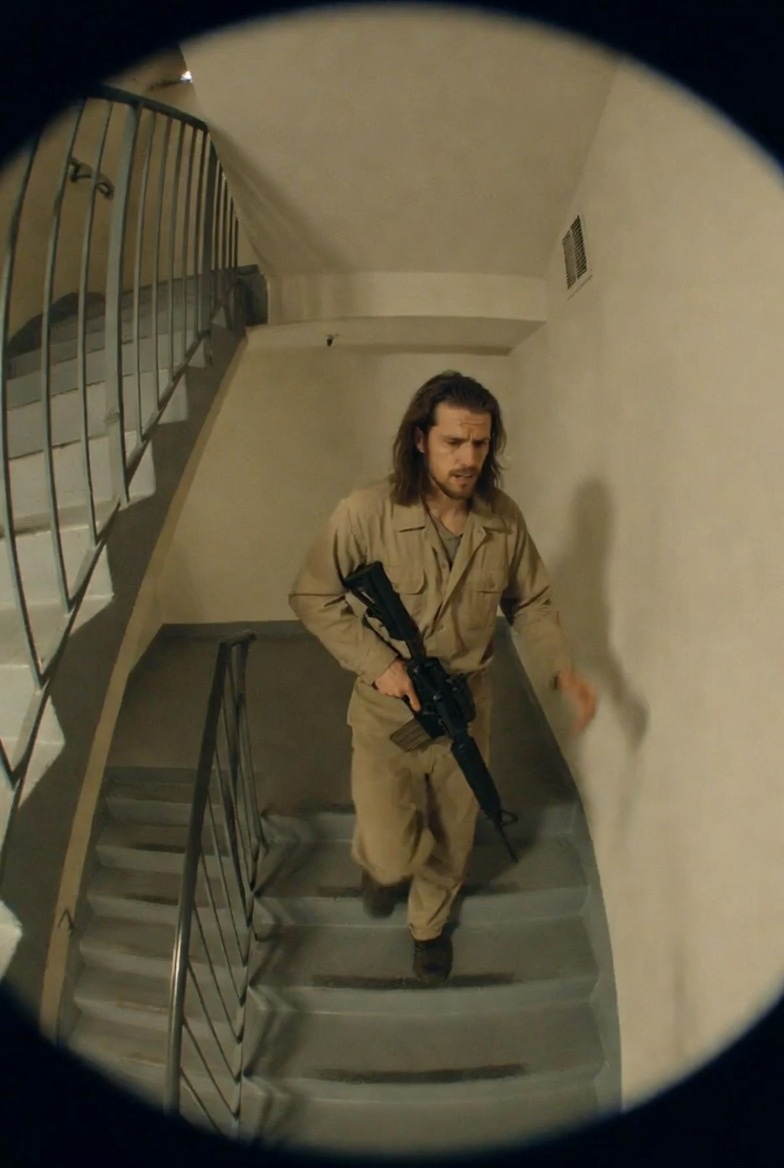gun: (357, 565, 531, 868)
person: (282, 372, 604, 985)
